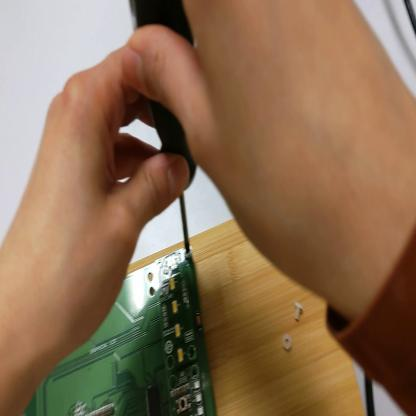hand: (120, 2, 411, 343), (14, 41, 193, 359)
low voltage board: (20, 249, 215, 416)
screwdriver-: (132, 2, 198, 258)
working area: (123, 218, 363, 416)
